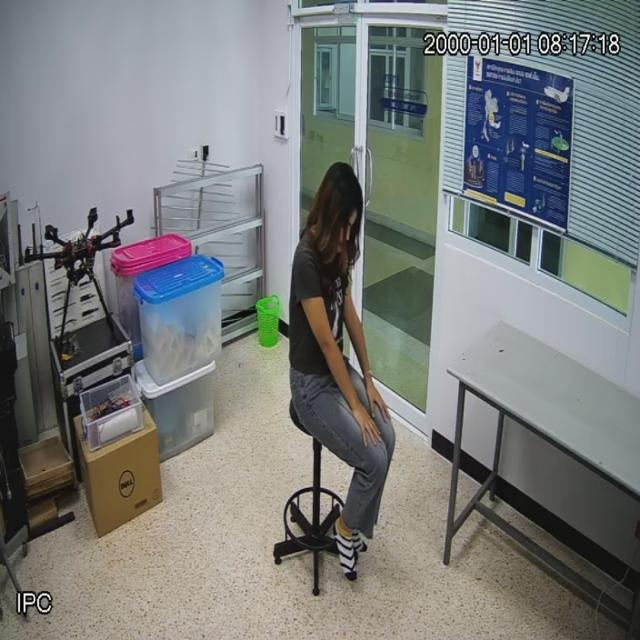normal: (290, 151, 401, 593)
